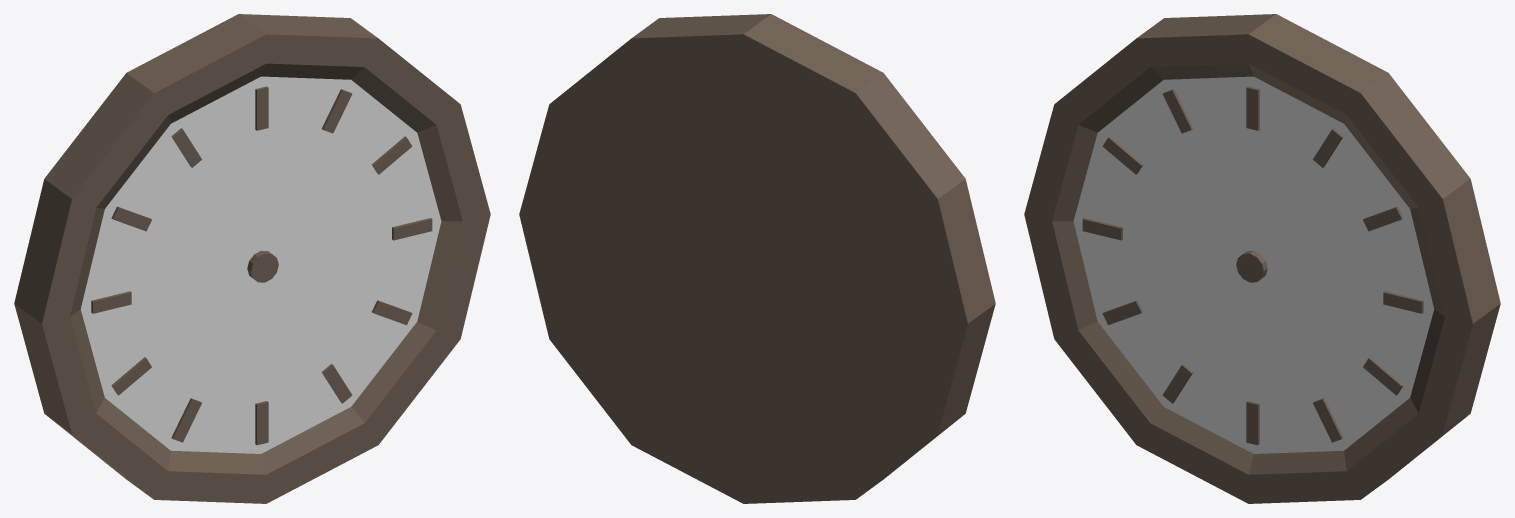
The model's file is Clock1_C2.fbx.
The picture shows the model from 3 angles, left to right: view 1: azimuth 30°, elevation 25°; view 2: azimuth 150°, elevation 25°; view 3: azimuth 330°, elevation 25°; orthographic projection.
Visible parts, largest first — view 1: Clock1_C2; view 2: Clock1_C2; view 3: Clock1_C2.
Part boxes in pixels (left/top/right/bottom): Clock1_C2: left=14, top=14, right=490, bottom=503; Clock1_C2: left=519, top=14, right=995, bottom=503; Clock1_C2: left=1024, top=14, right=1500, bottom=503.
Bounding box in the file's own units: 29.02 × 29.02 × 3.12.
